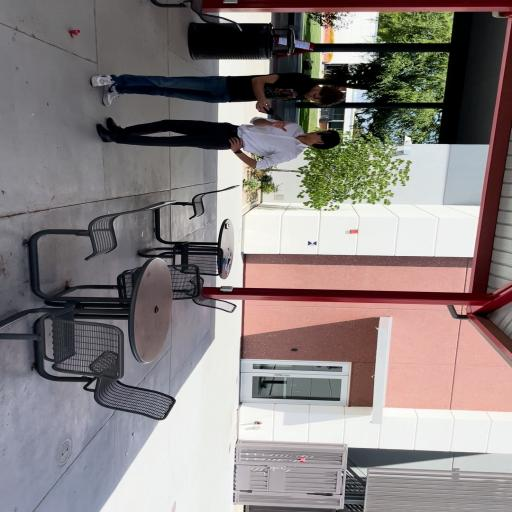target6: (308, 240, 318, 246)
